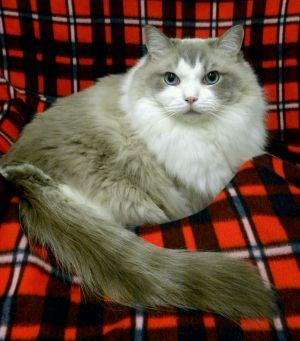ragdoll: (136, 19, 256, 132)
